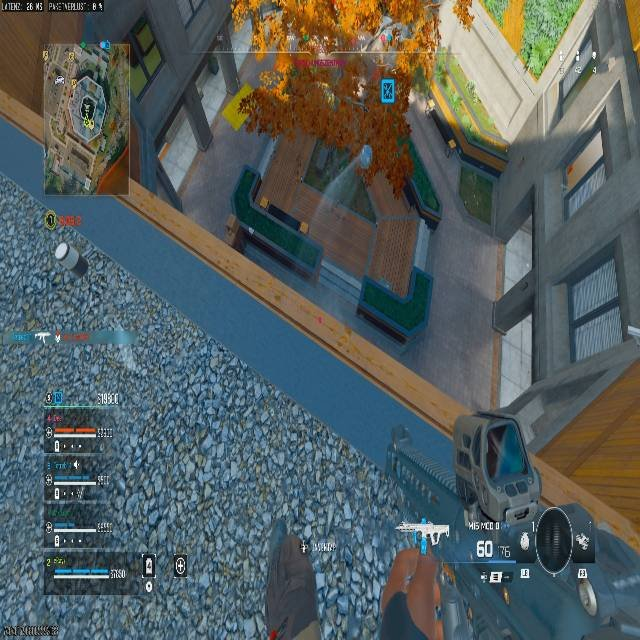head: (43, 0, 637, 595)
player: (344, 0, 455, 106)
